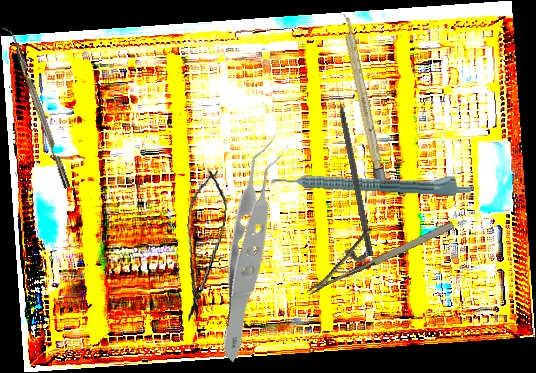Chopper: (0, 24, 71, 192)
Handpiece: (270, 164, 473, 198)
Hook Surgical: (333, 81, 376, 257)
Micro Scissor: (175, 166, 232, 325)
Needle Holder: (293, 197, 457, 296)
Scalpel Handle: (339, 12, 388, 187)
Tissue Forceps: (143, 133, 365, 363)
